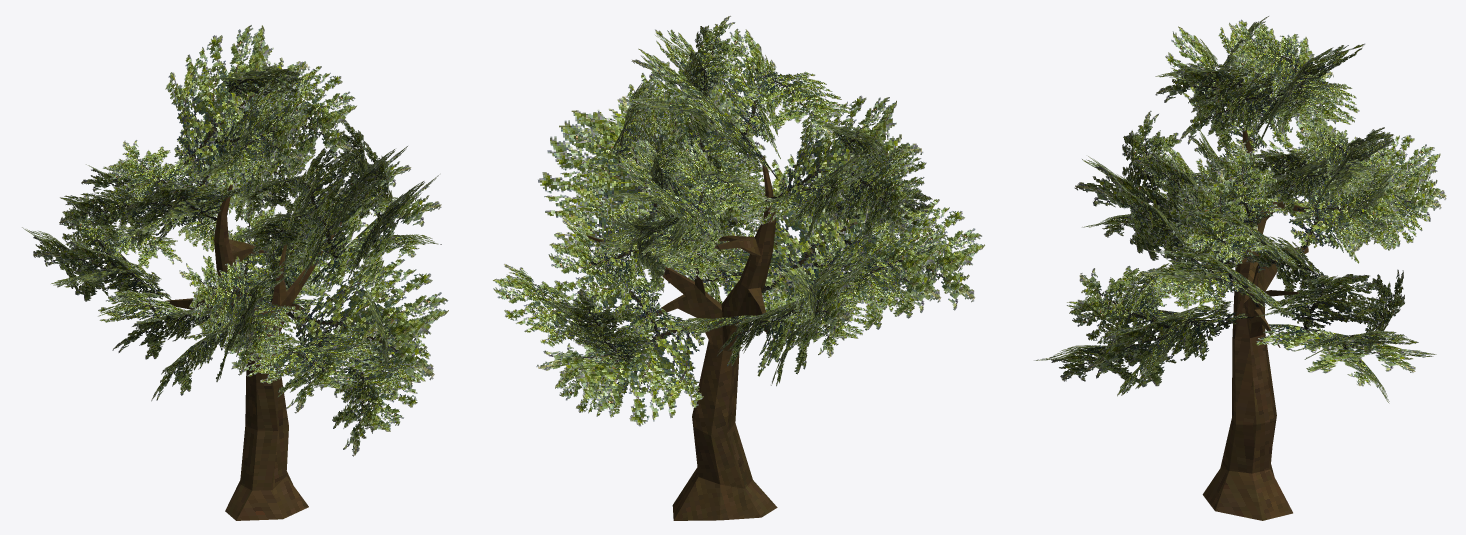
File: tree.gltf
3 views of the same model, side by side, from view 1: azimuth 30°, elevation 25°; view 2: azimuth 150°, elevation 25°; view 3: azimuth 270°, elevation 25° (orthographic). The views are drawn at different scales.
Visible parts, largest first — view 1: Plane.001_Tree_0; view 2: Plane.001_Tree_0; view 3: Plane.001_Tree_0.
Part boxes in pixels (<box>): Plane.001_Tree_0: <box>22,25,448,520</box>; Plane.001_Tree_0: <box>493,15,984,520</box>; Plane.001_Tree_0: <box>1034,16,1446,520</box>.
Size of the model in its own units: 7.97 by 9.13 by 7.37.
1 material, 1 textured.
